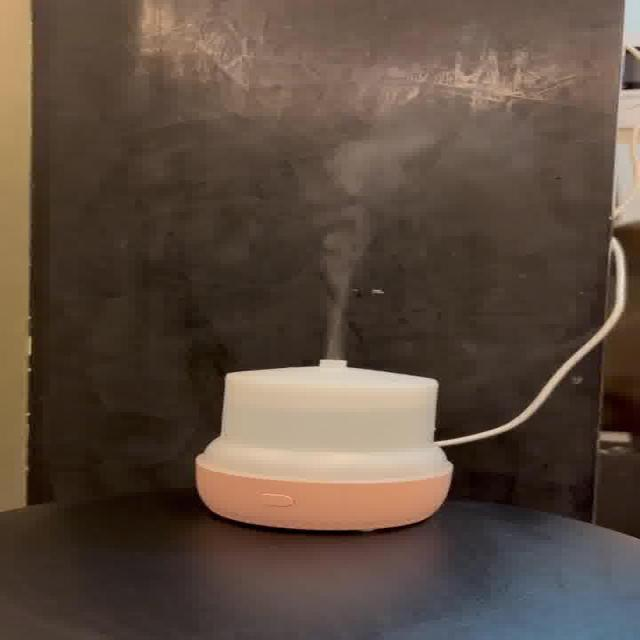fire: (305, 106, 487, 354)
